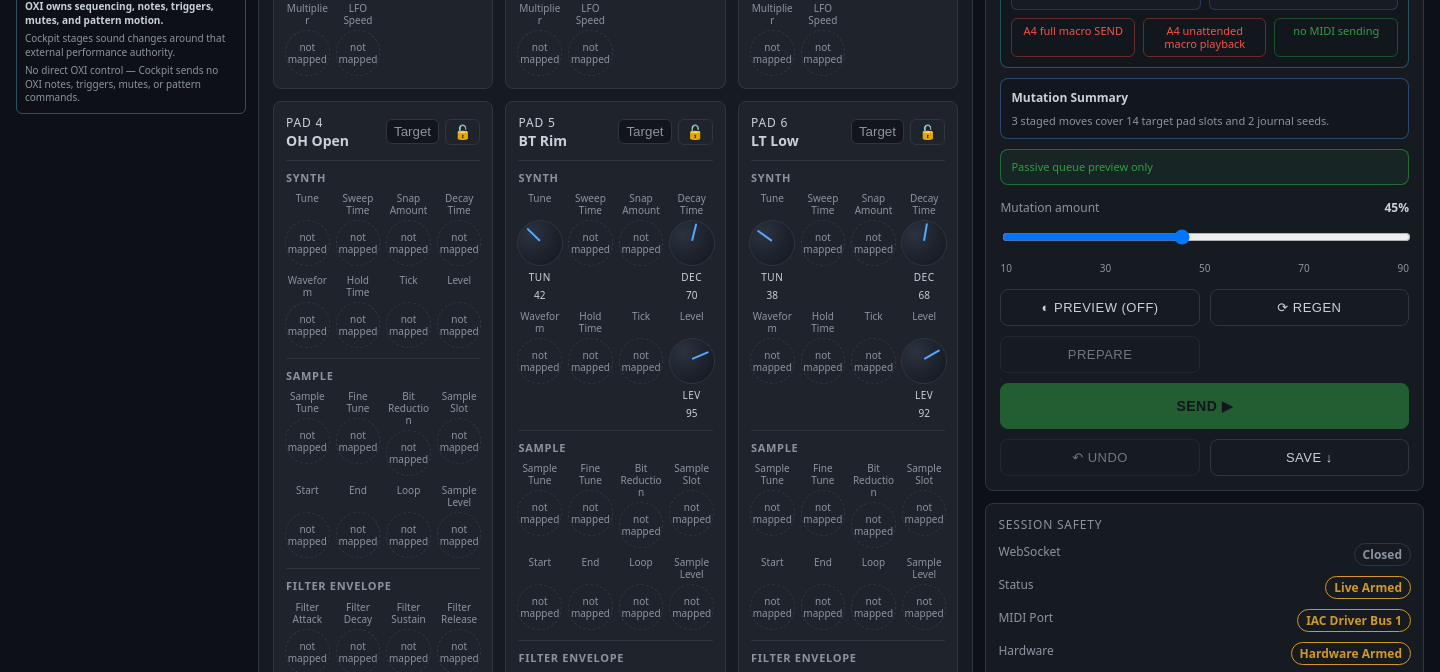
Test: Cockpit › previewOn state lifted to <Cockpit /> propagates between ActionBar and SnapshotPanel
(page scrolled)
Step 1. Click the button with test id "action-preview" → point(1100, 307), box left=1000, top=288, right=1200, bottom=326
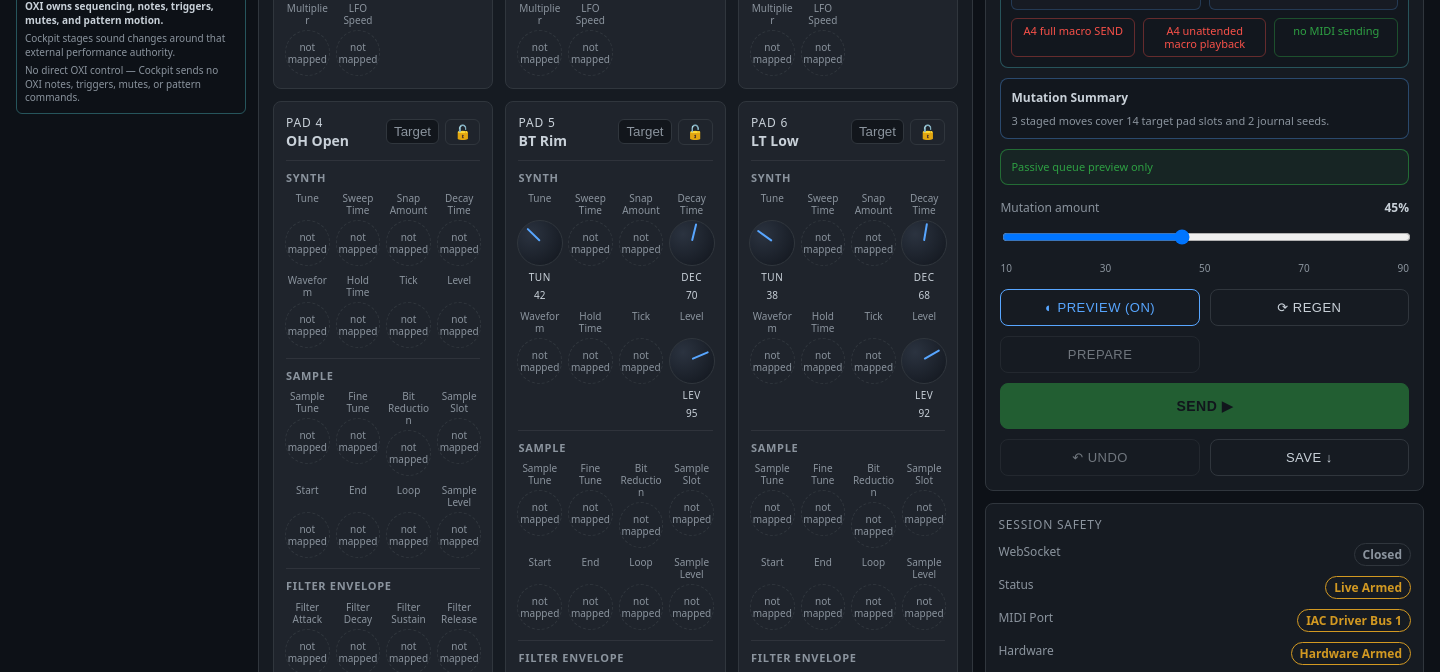
Now the button with test id "action-preview" shows "PREVIEW (on)", box left=1000, top=288, right=1200, bottom=326
